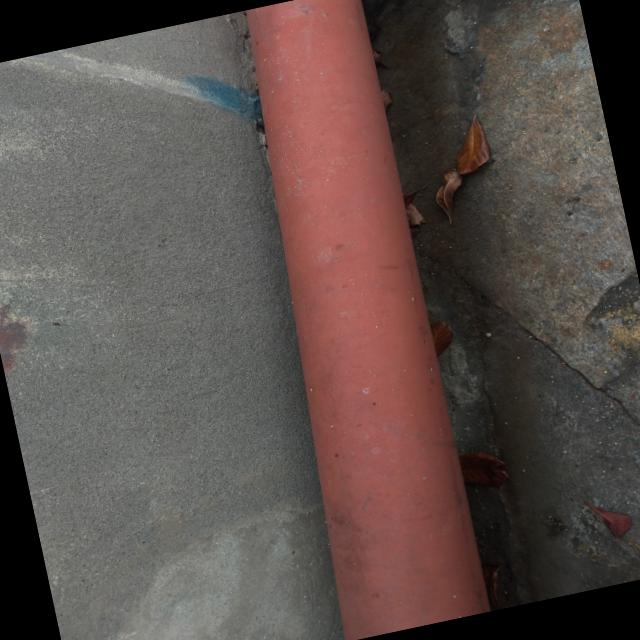gas: (247, 0, 490, 640)
